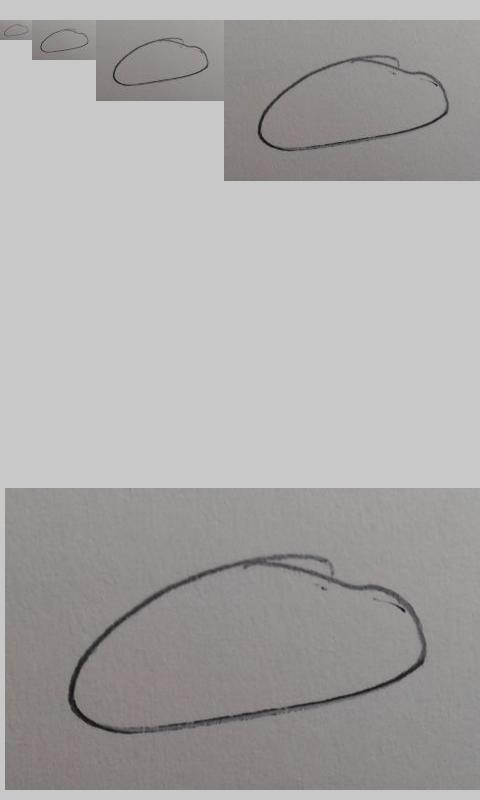chip: (67, 554, 428, 734), (257, 54, 449, 153), (113, 38, 209, 87), (40, 29, 90, 53), (3, 23, 30, 38)
